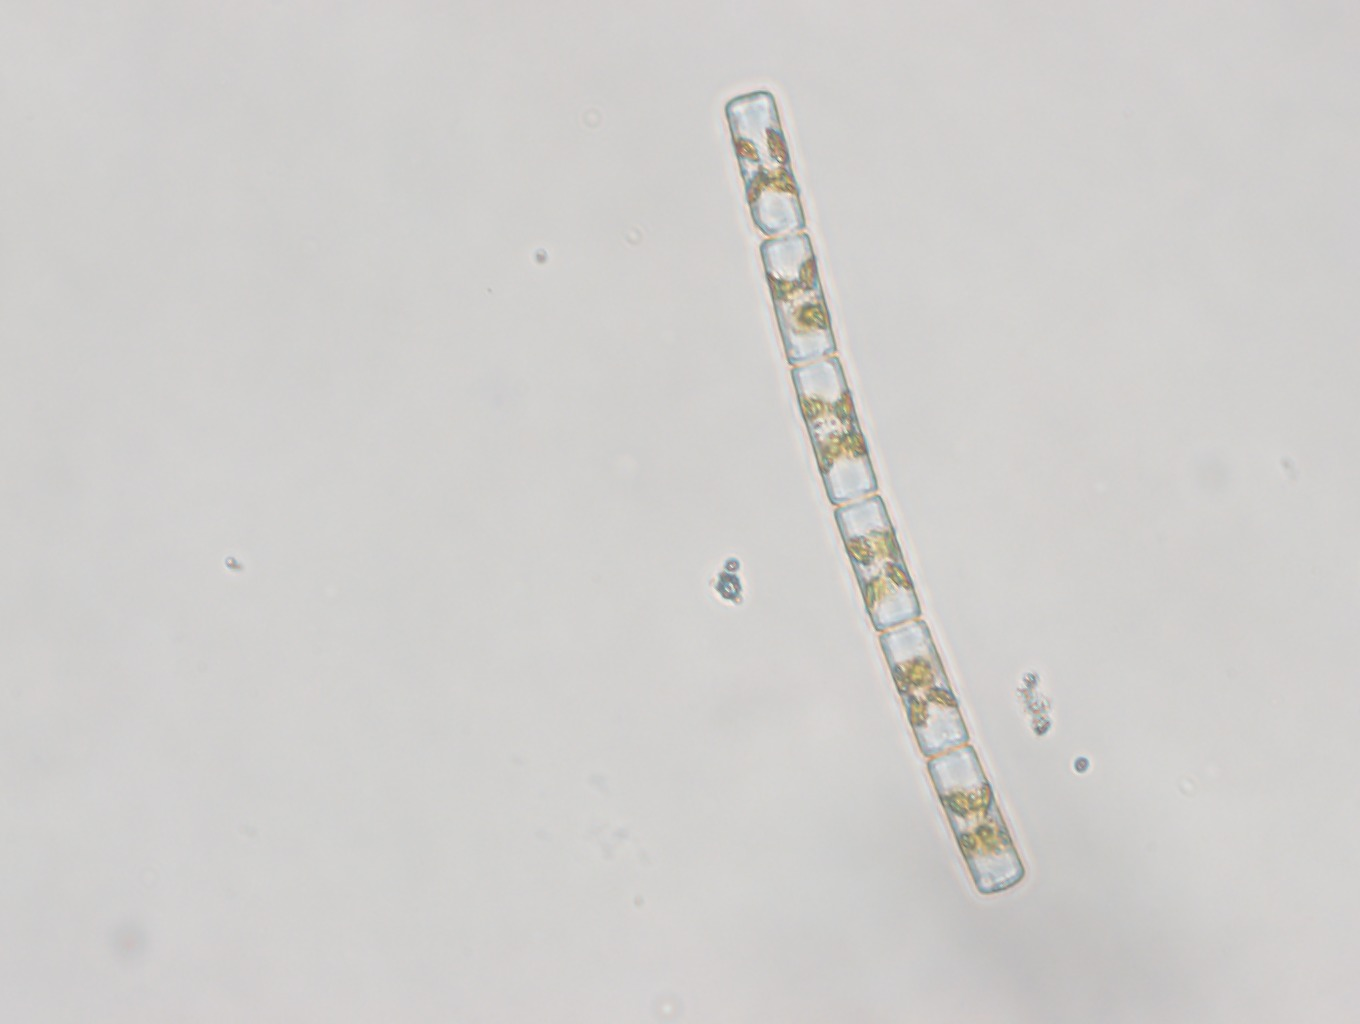rhizosolenia: (714, 84, 1053, 899)
